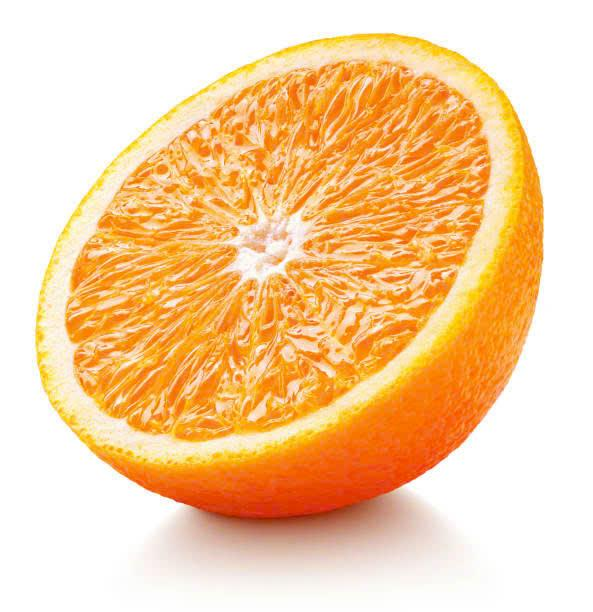orange: (33, 29, 545, 536)
